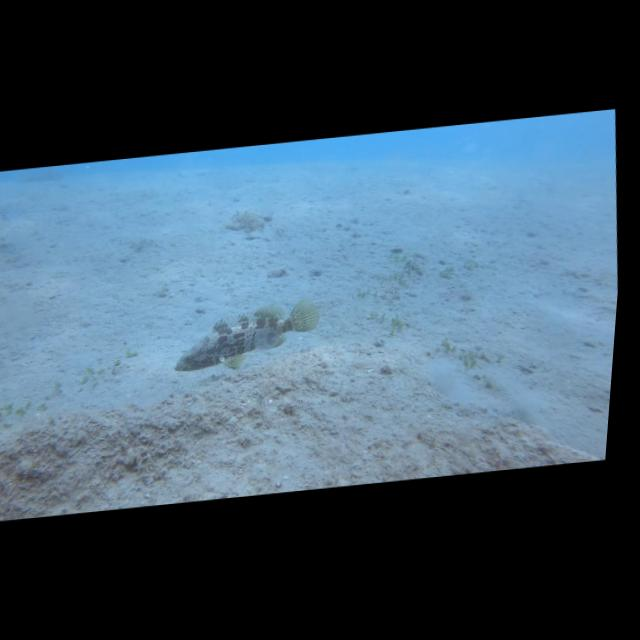Groupers: (164, 295, 331, 377)
